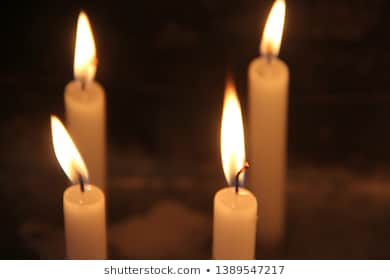Fire: (43, 111, 101, 195), (216, 77, 249, 191), (69, 9, 107, 85), (259, 1, 288, 66)
